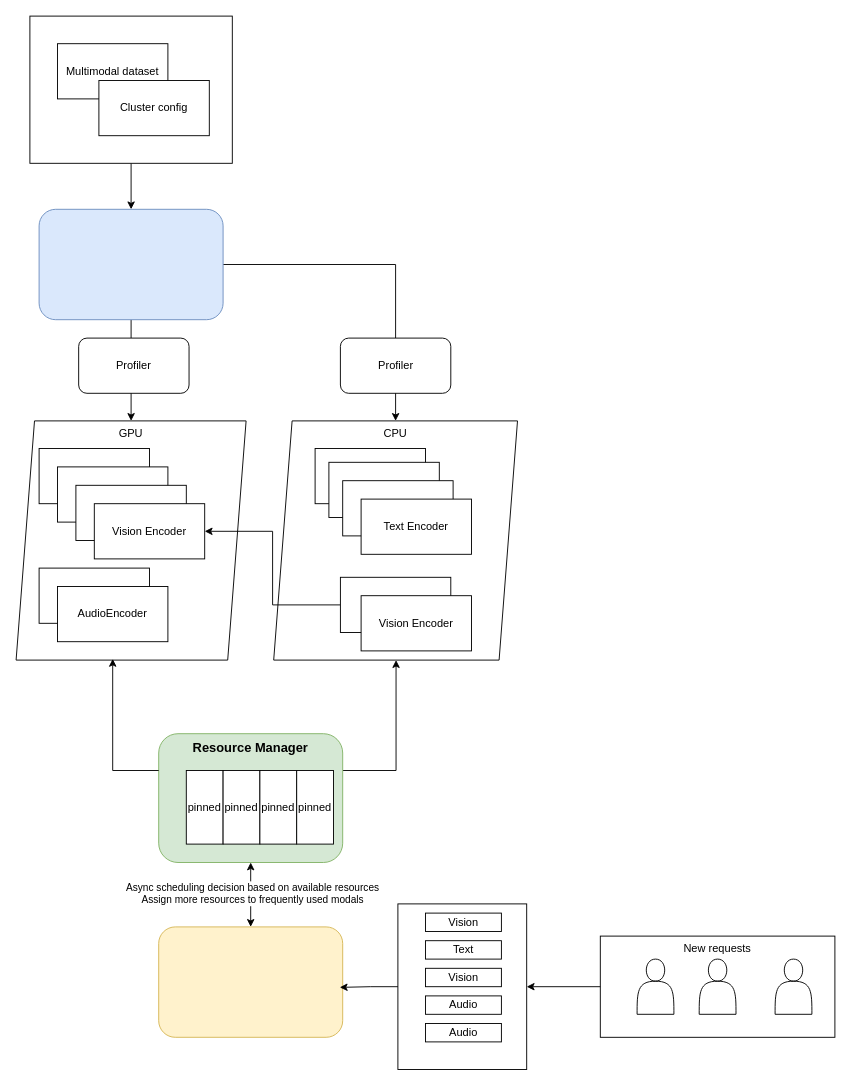
Some shapes in this 851 by 1086 pixel diagram are drawn without their labels. The centre of each missing label's shape, as x and y in pixels:
"Adaptive Scheduler" belongs at [250,981].
"Workload Analyzer" belongs at [130,264].
